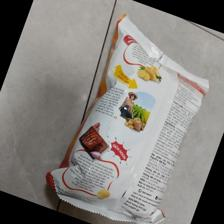Lays: (48, 13, 210, 224)
